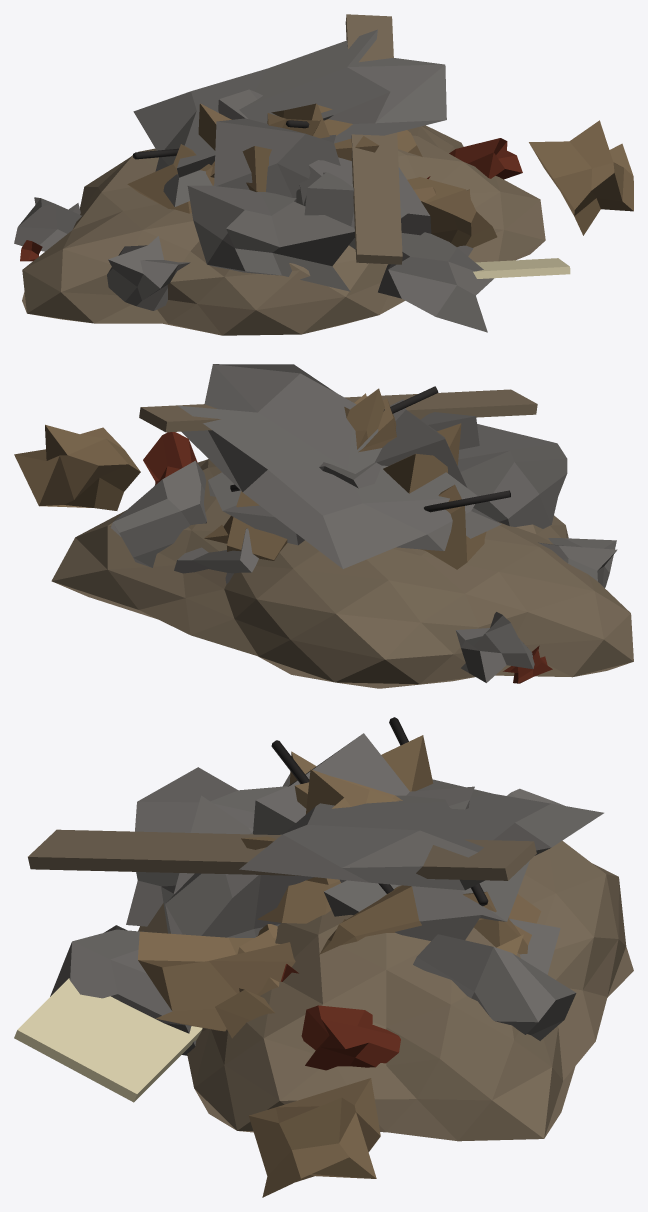
The model's file is cover_rubble_6.glb.
3 views of the same model, one above another, from view 1: azimuth 30°, elevation 25°; view 2: azimuth 150°, elevation 25°; view 3: azimuth 270°, elevation 25° (orthographic). The views are drawn at different scales.
Visible parts, largest first — view 1: mound, slab, lump_18, plank, lump_16, lump_22, lump_0, lump_2, lump_20, lump_29, lump_11, lump_6 (+7 smaller); view 2: mound, slab, lump_18, lump_0, lump_27, plank, lump_16, lump_11, lump_2, lump_19, lump_25, lump_17 (+8 smaller); view 3: mound, slab, plank, frame, lump_0, lump_20, lump_27, lump_18, lump_29, lump_22, lump_19, lump_16 (+10 smaller).
Boxes of the visible parts, x1,y1,x2,y2 form: mound: (22,125,545,335); slab: (133,29,446,206); lump_18: (187,185,354,291); plank: (345,14,402,264); lump_16: (214,89,340,197); lump_22: (378,232,493,332); lump_0: (529,120,633,235); lump_2: (107,236,190,310); lump_20: (407,177,497,247); lump_29: (299,157,431,237); lump_11: (14,197,81,251); lump_6: (296,172,367,263); mound: (51,459,633,688); slab: (178,364,501,568); lump_18: (457,424,567,528); lump_0: (14,424,140,510); lump_27: (110,460,206,567); plank: (139,389,537,432); lump_16: (319,399,467,488); lump_11: (455,612,534,682); lump_2: (538,538,617,587); lump_19: (208,472,304,545); lump_25: (383,423,461,493); lump_17: (174,528,258,584); mound: (138,840,633,1141); slab: (239,779,603,890); plank: (28,829,536,880); frame: (14,978,202,1102); lump_0: (249,1078,380,1197); lump_20: (138,931,295,1031); lump_27: (413,934,576,1040); lump_18: (126,767,287,926); lump_29: (165,832,346,937); lump_22: (50,925,196,1055); lump_19: (324,860,529,940); lump_16: (253,733,474,834).
Bounding box in the file's own units: 2.65 × 0.811 × 1.79.
